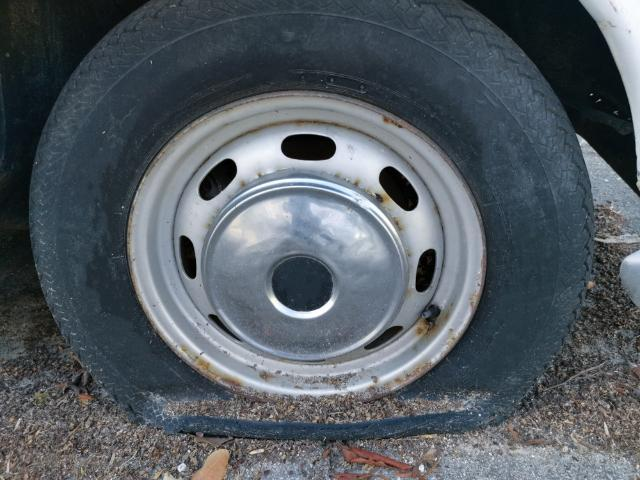tire flat: (29, 0, 595, 444)
